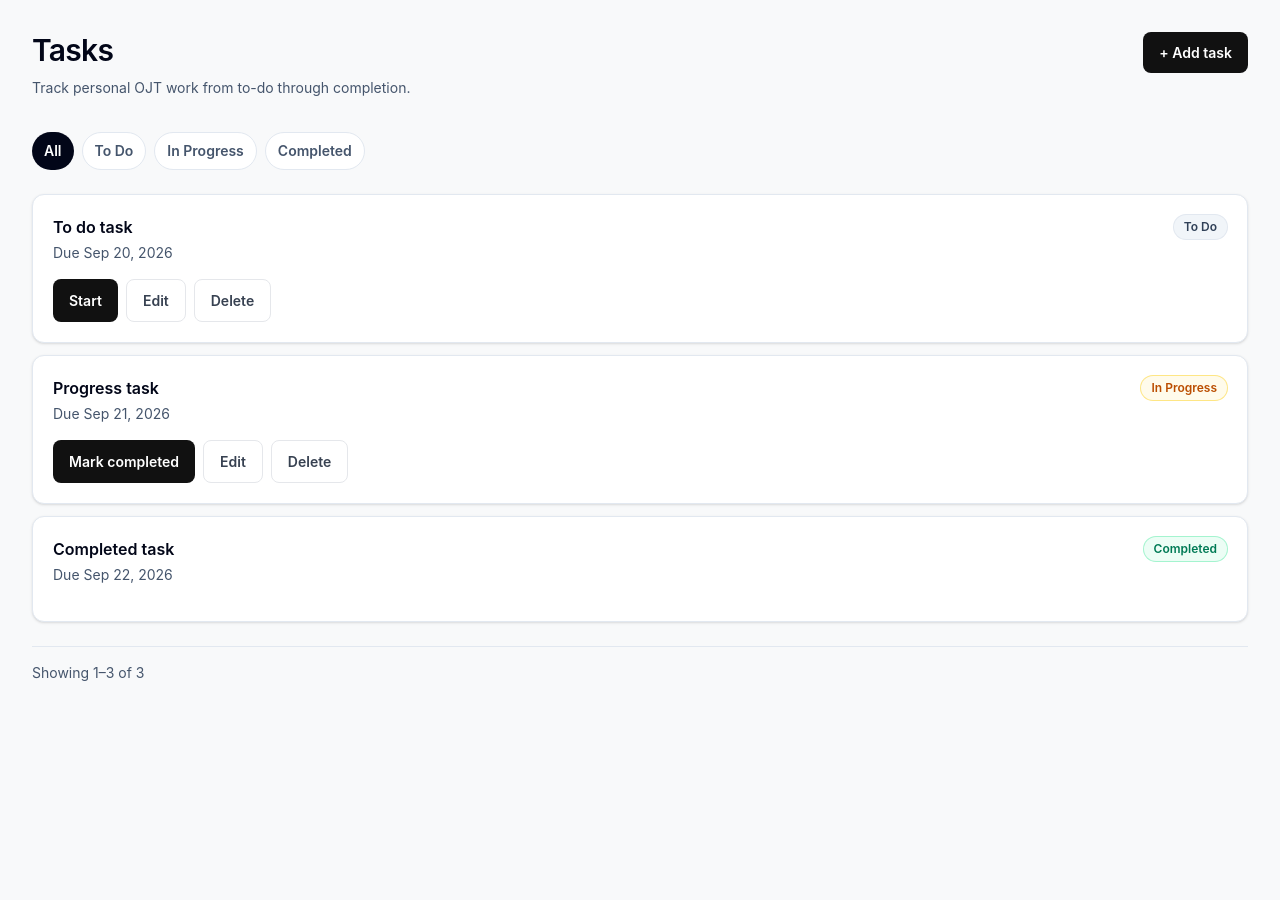
it: student TasksView › filters tasks and exposes only the student lifecycle
This screenshot has width=1280, height=900.
Click the button with test id "filter-completed".
click(315, 151)  # box 265,132 -> 365,170
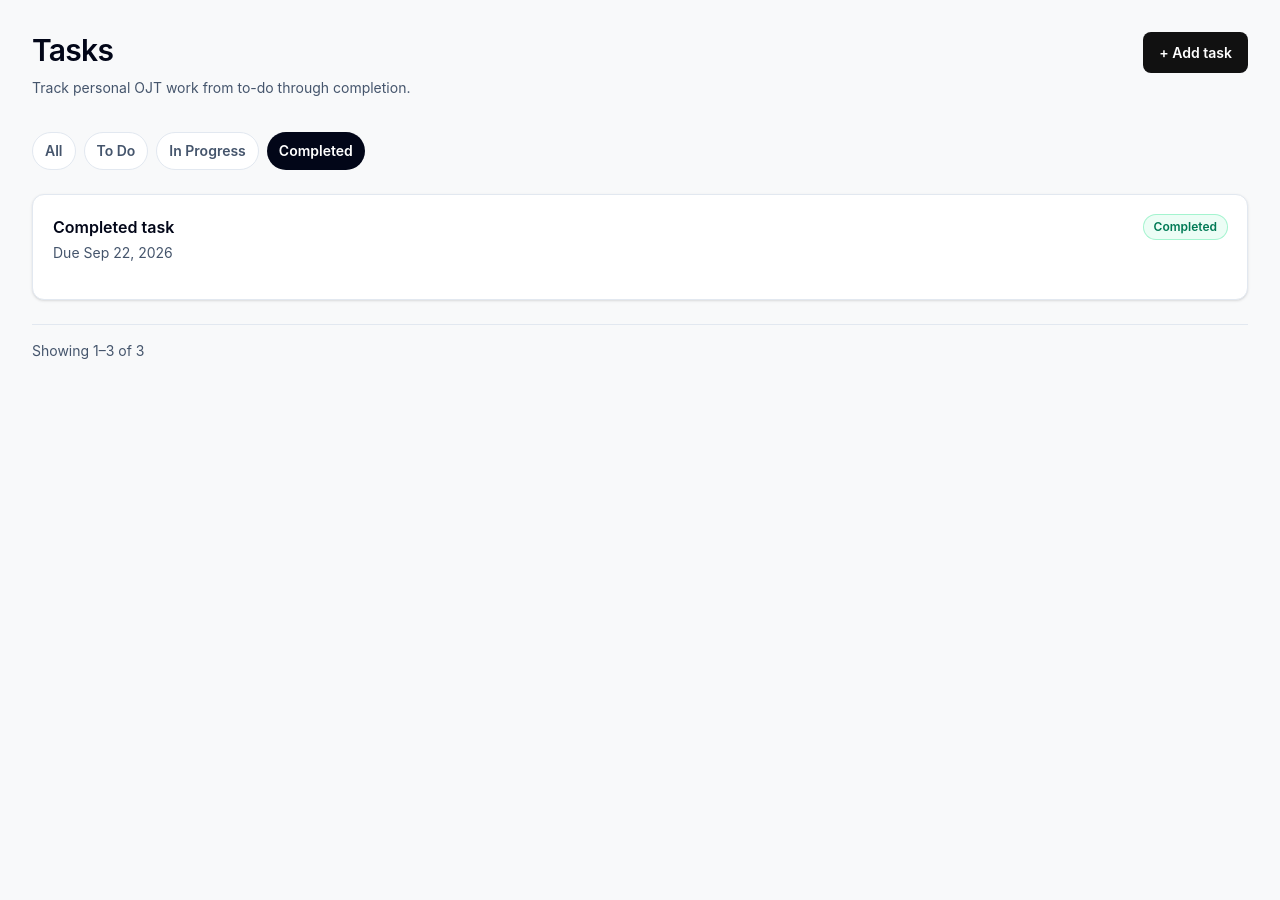
Expected: the element with test id "task-3" is shown, 32,194 -> 1248,300
Click the button with test id "filter-all".
click(54, 151)  # box 32,132 -> 76,170
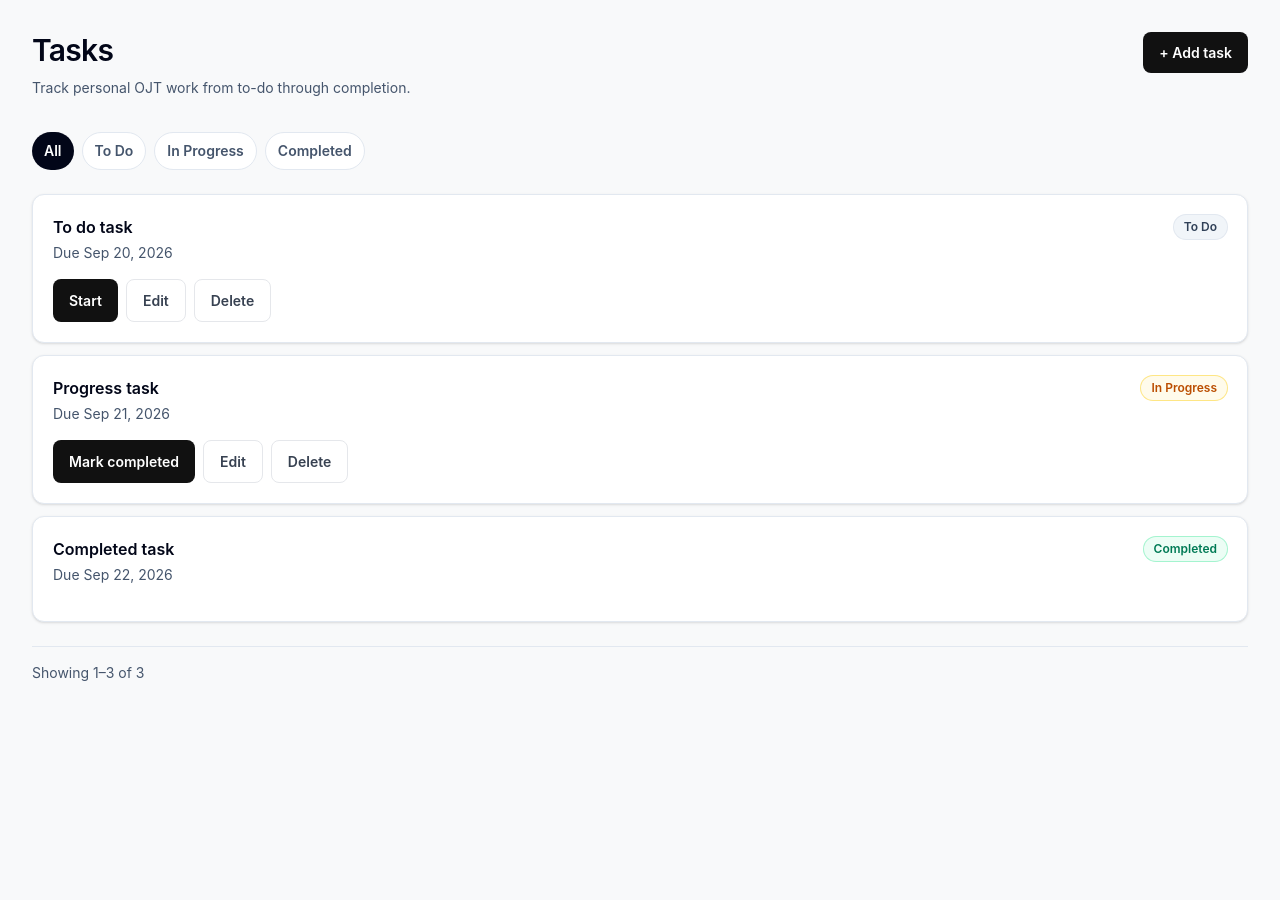
Expected: the button with test id "start-1" reads "Start", 53,279 -> 118,322
Expected: the button with test id "complete-2" reads "Mark completed", 53,440 -> 195,483
Expected: the button with test id "edit-1" is shown, 126,279 -> 186,322
